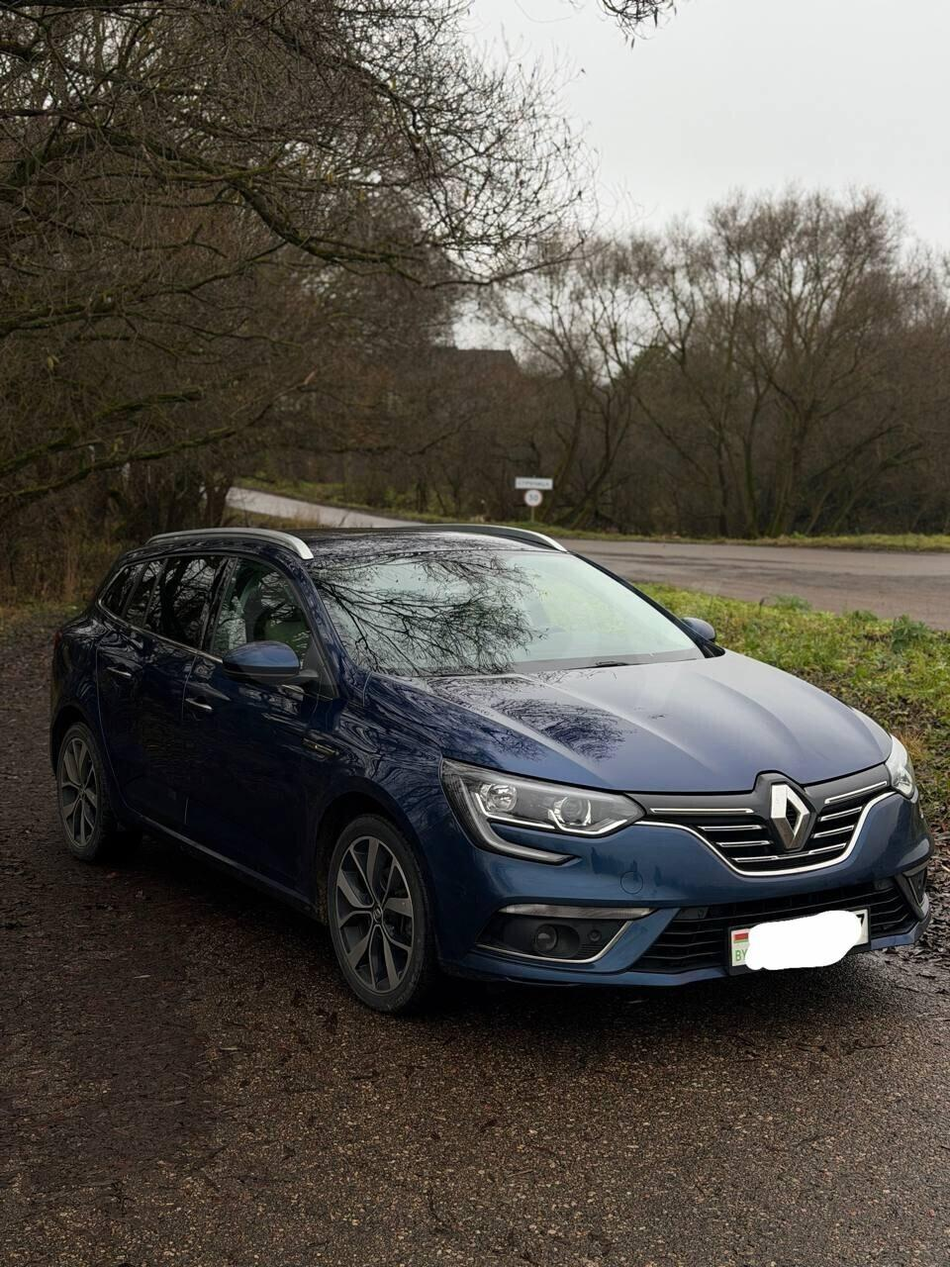Megane_2016-2020: (53, 521, 938, 1031)
